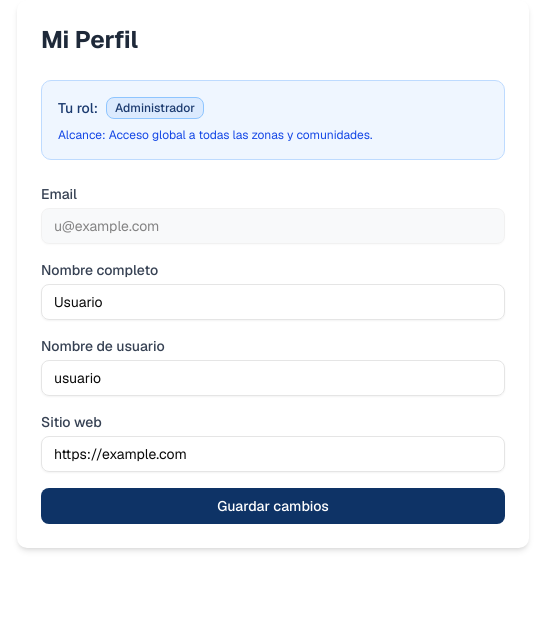
Test: Perfil › actualiza datos del usuario, resultado=ok
Expected: the heading "Mi Perfil" is shown, x1=41 y1=24 x2=138 y2=55
Replace the text in the field labelled "Nombre completo" with "Nuevo Nombre". click: (273, 302)
box: x1=41 y1=284 x2=505 y2=320
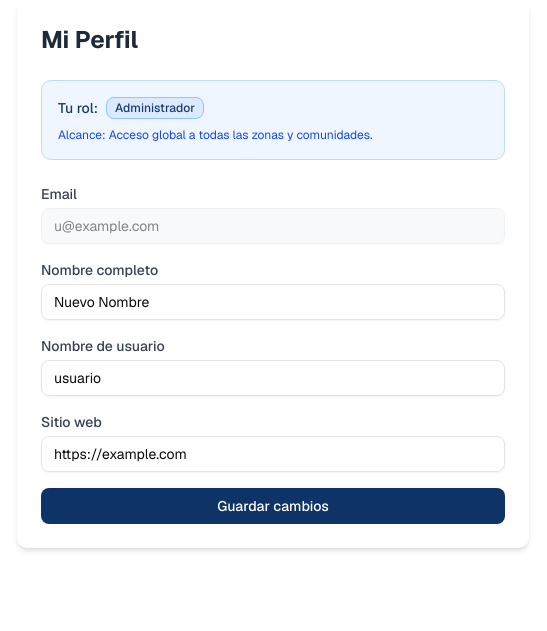
Replace the text in the field labelled "Nombre de usuario" with "nuevo". click: (273, 378)
box: x1=41 y1=360 x2=505 y2=396
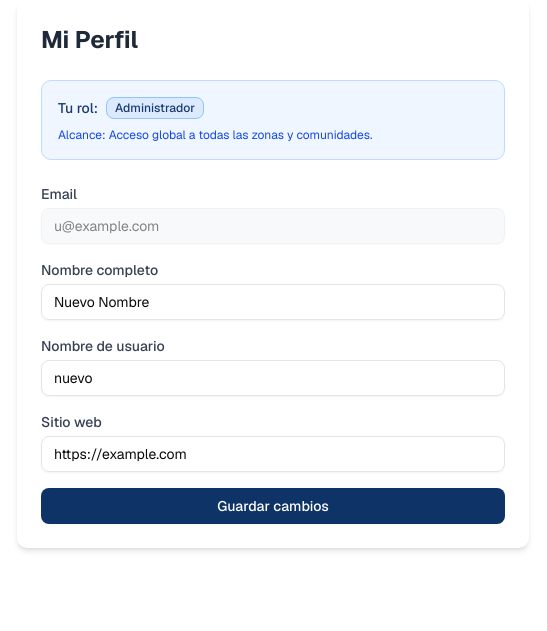
Replace the text in the field labelled "Sitio web" with "https://nuevo.example.com". click: (273, 454)
box: x1=41 y1=436 x2=505 y2=472
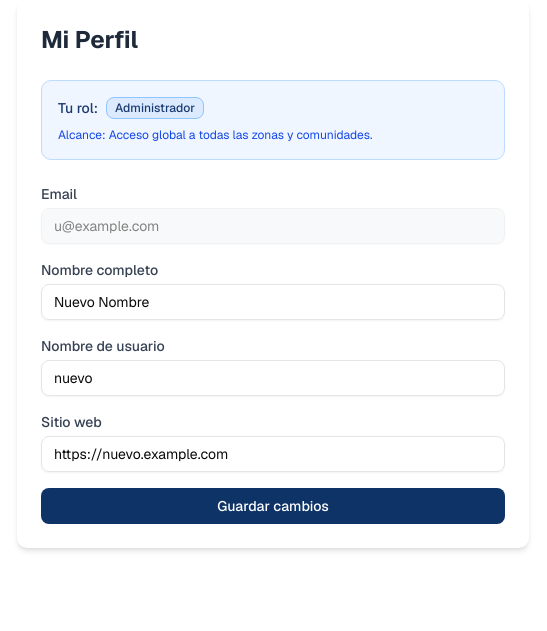
Click the button "Guardar cambios". click: (273, 506)
box: x1=41 y1=488 x2=505 y2=524
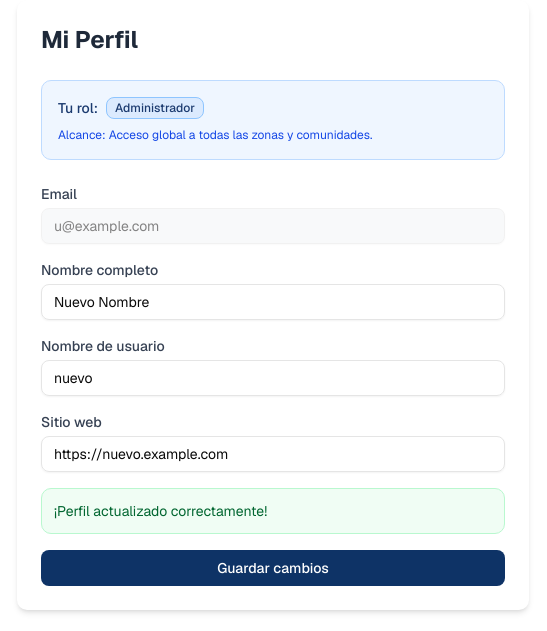
Result: the text "¡Perfil actualizado correctamente!" is shown at x1=41 y1=488 x2=505 y2=534
